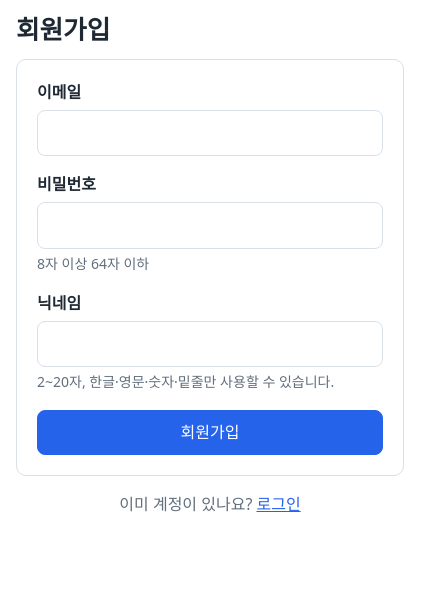
회원가입 › 서버에 연결하지 못해도 실패 이유를 보여주고 비밀번호만 지운다
The width and height of the screenshot is (421, 615).
Step 1. Type "a@example.com" into the field labelled "이메일" → (210, 133), box [37,110,383,156]
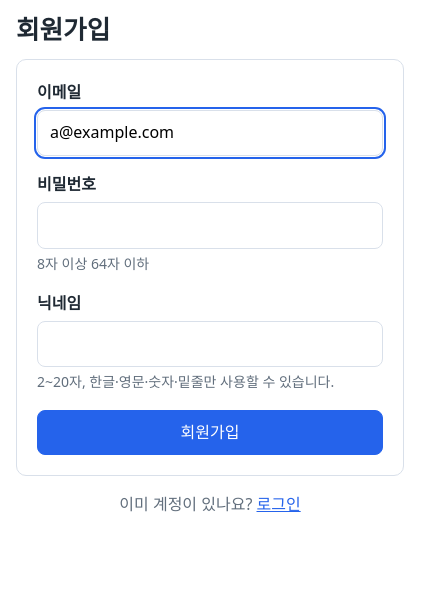
Step 2. Type "password123" into the password field labelled "비밀번호" → (210, 225), box [37,202,383,249]
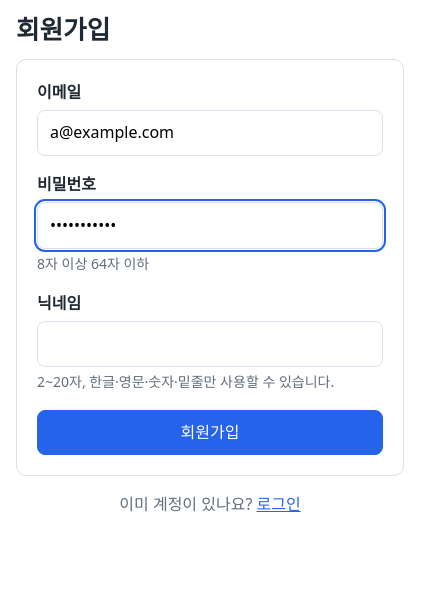
Step 3. Type "alpha" into the field labelled "닉네임" → (210, 344), box [37,321,383,368]
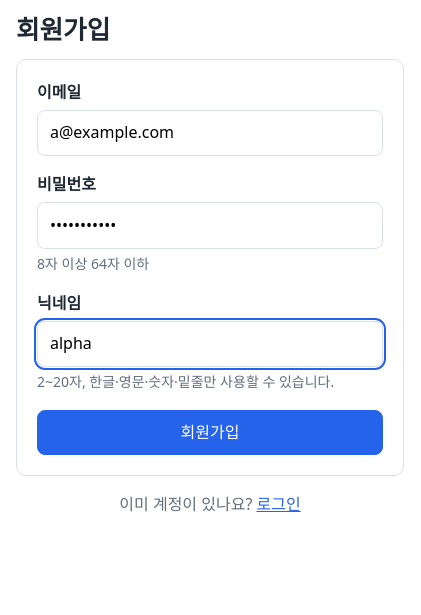
Step 4. Click the button "회원가입" → (210, 432), box [37,410,383,455]
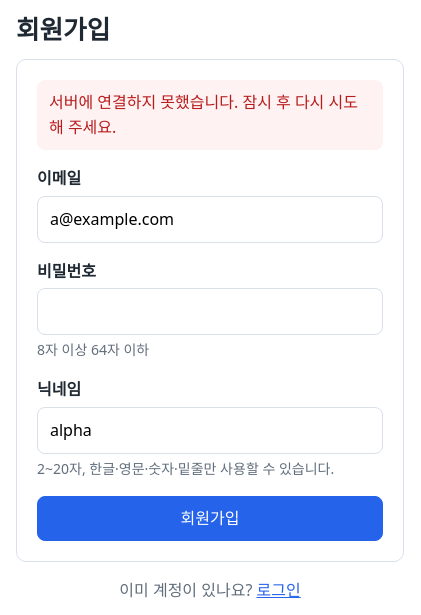
Expected: the text "서버에 연결하지 못했습니다. 잠시 후 다시 시도해 주세요." is shown, [37,80,383,150]
Expected: the password field labelled "비밀번호" is empty, [37,288,383,335]
